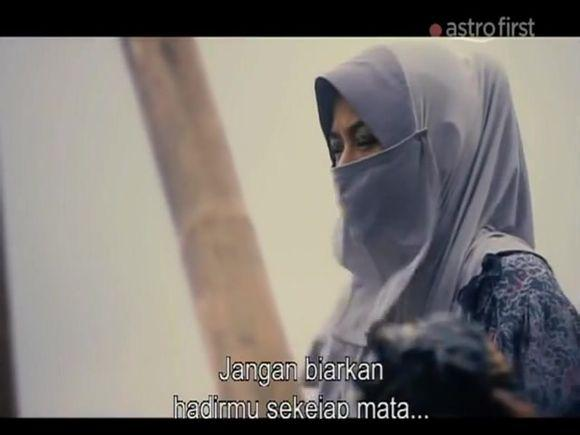OK: (324, 124, 418, 218)
